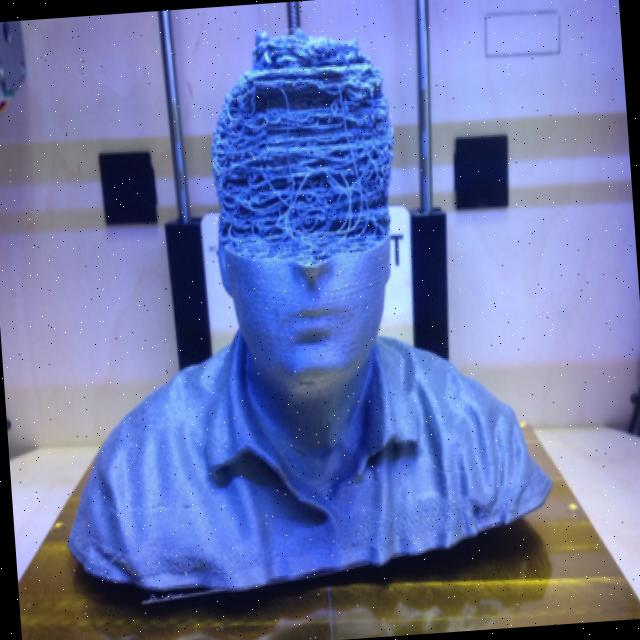spaghetti: (192, 14, 405, 251)
